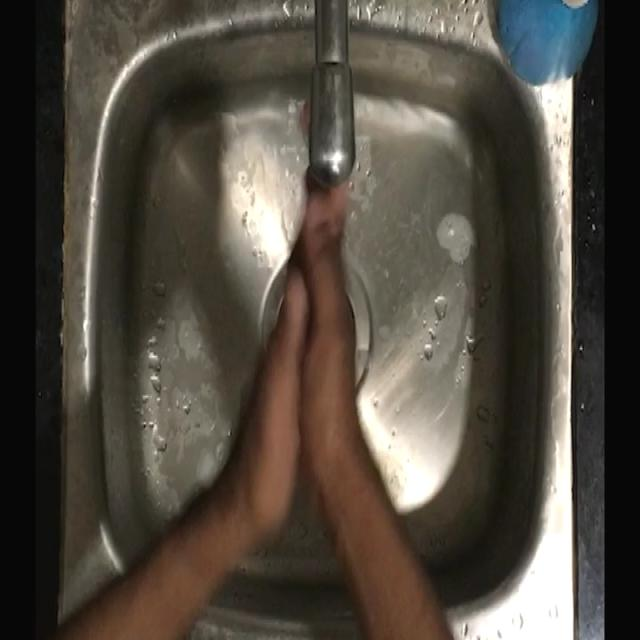step_1: (219, 112, 372, 498)
